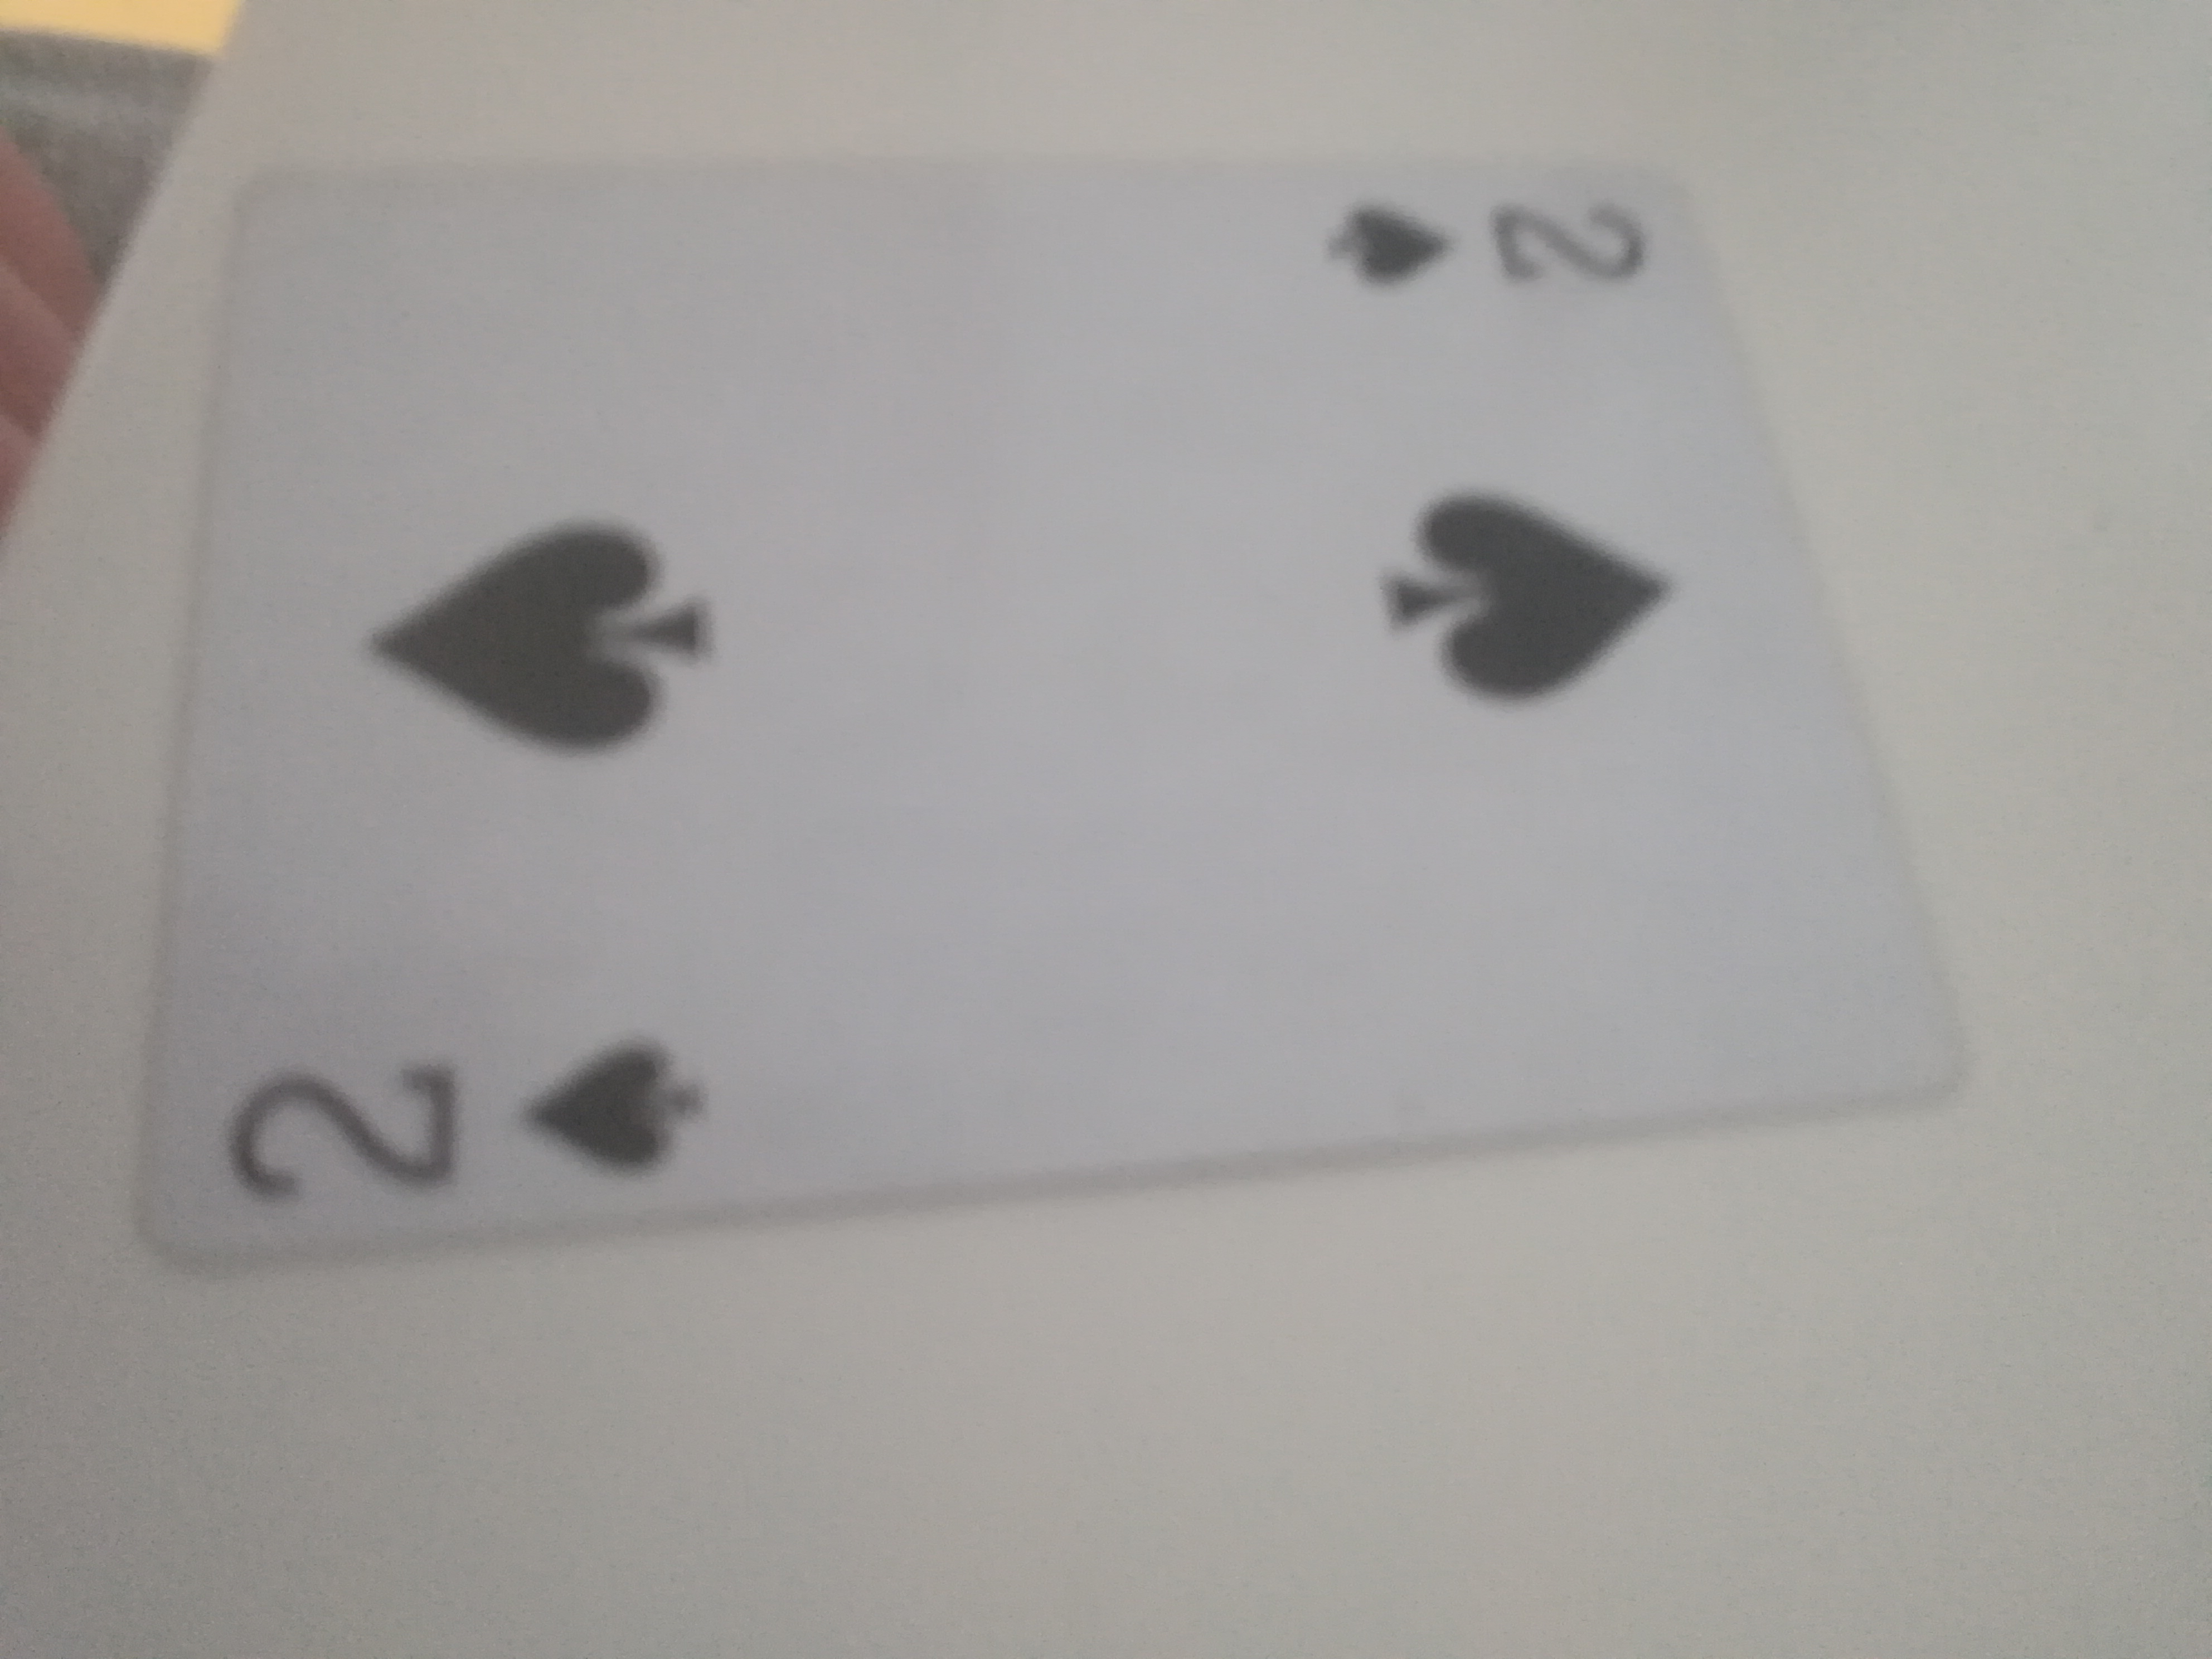2S: (160, 138, 1986, 1256)
